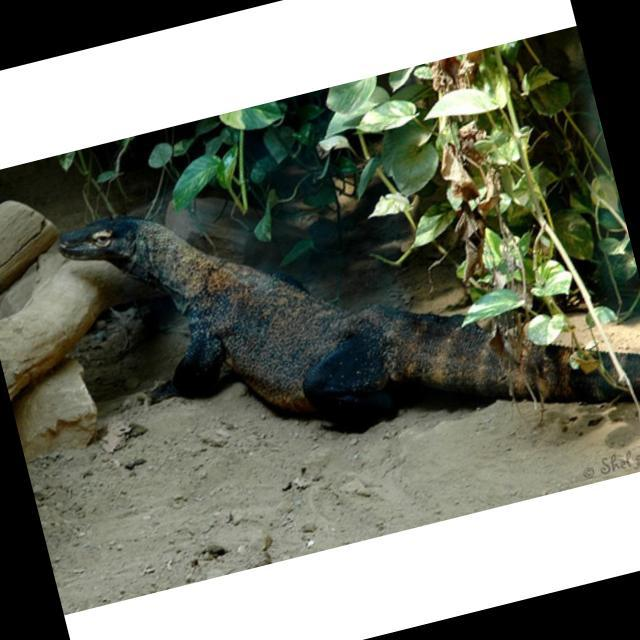KomodoDragon: (49, 93, 640, 532)
